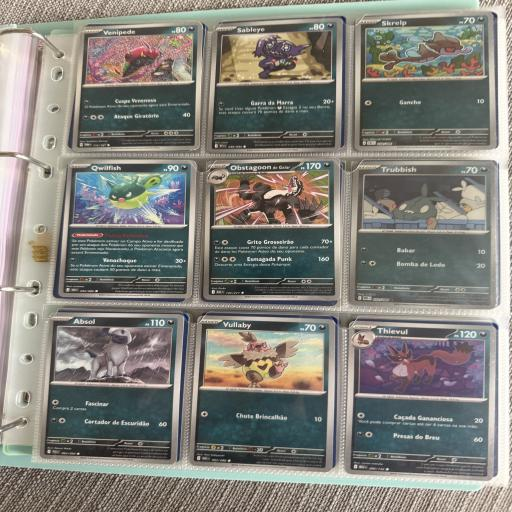card: (344, 321, 497, 481), (189, 312, 340, 472), (39, 308, 185, 465), (349, 159, 499, 310), (354, 10, 498, 152), (204, 157, 341, 300), (58, 159, 198, 298), (208, 17, 343, 154), (72, 18, 203, 154)
